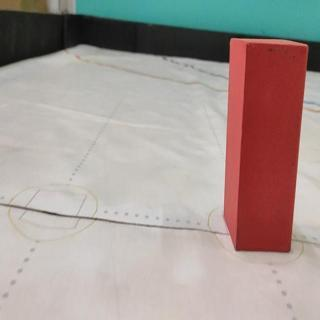redbox: (223, 37, 309, 251)
